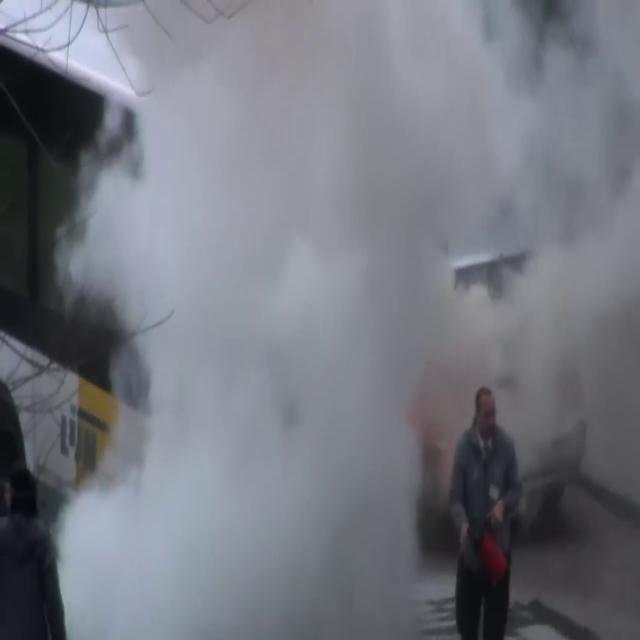Smoke: (48, 0, 640, 631)
